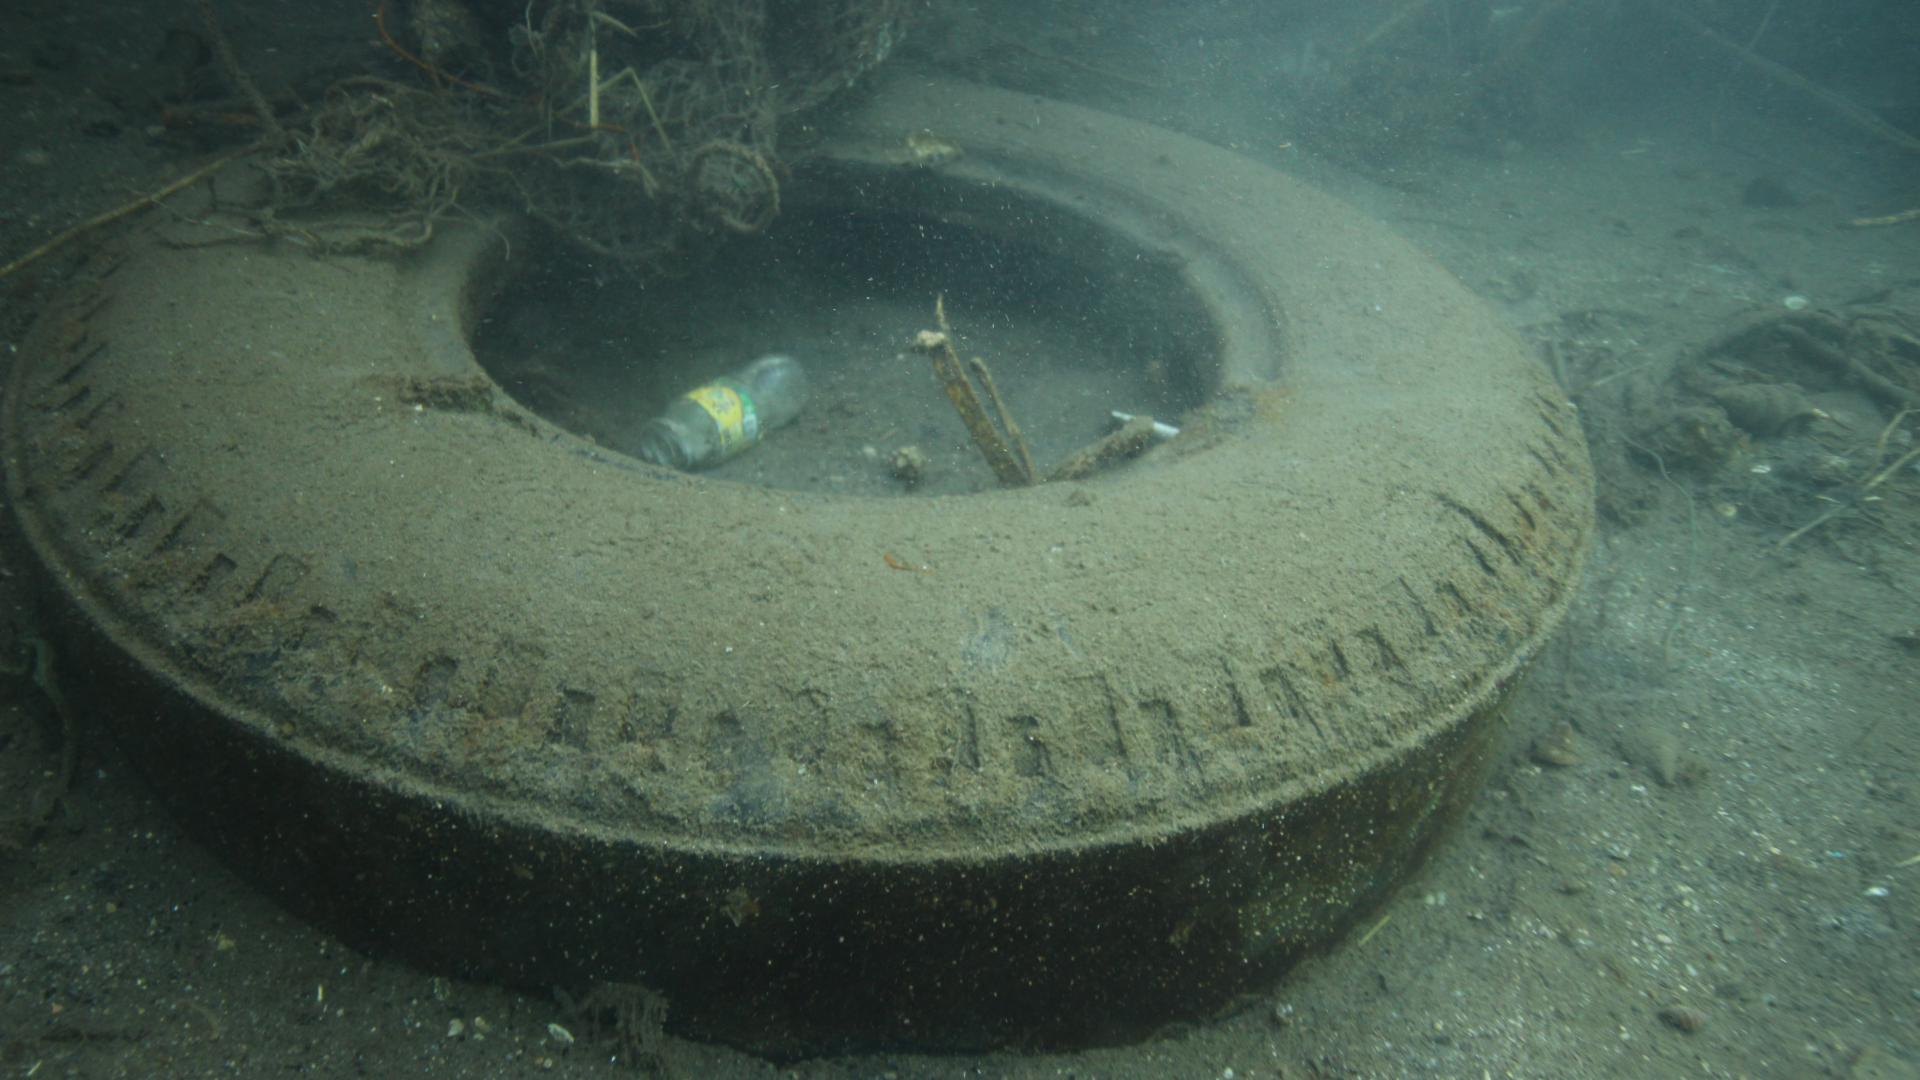tire: (0, 70, 1598, 1047)
